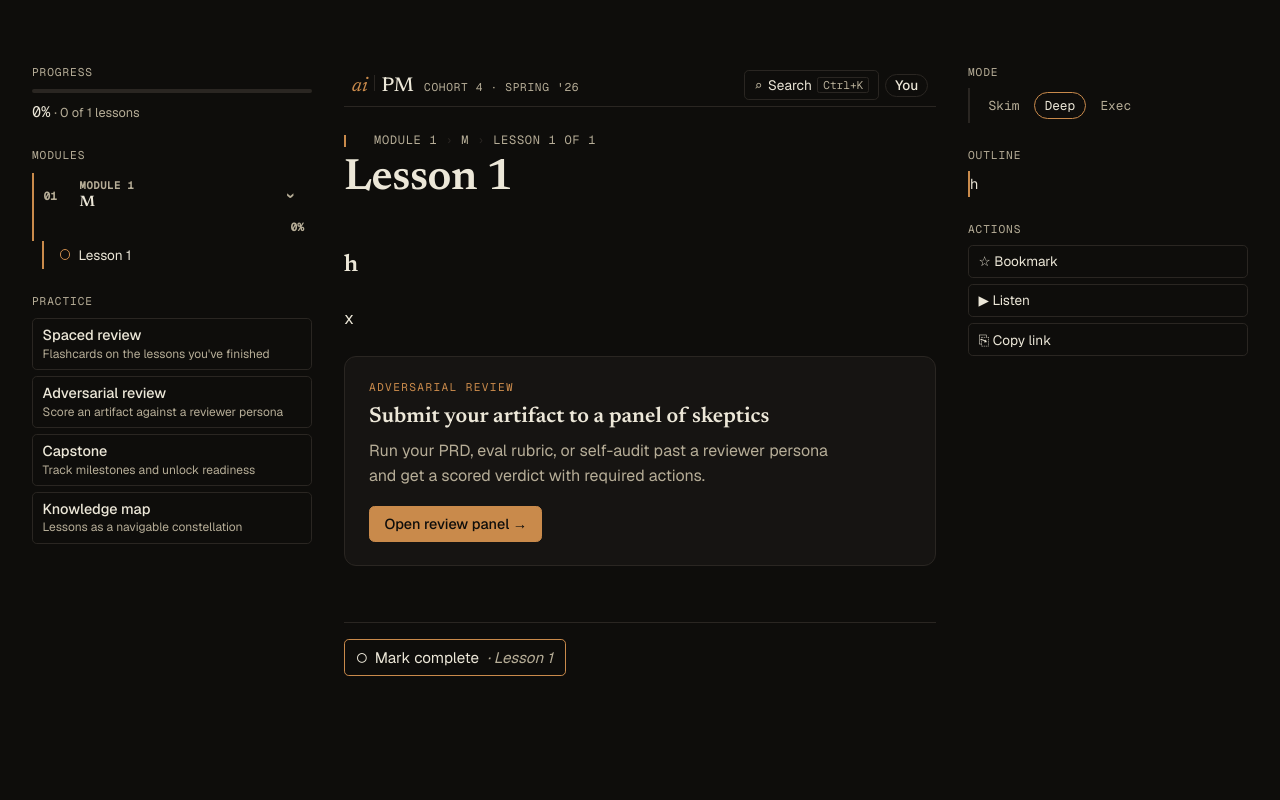
Test case: FR-016 — practice modal stack invariants › opens exactly one modal when a tool is clicked, none before
Click the button with test id "course-practice-item" that starts with "Spaced review" at (172, 344), box 32,318 -> 312,370
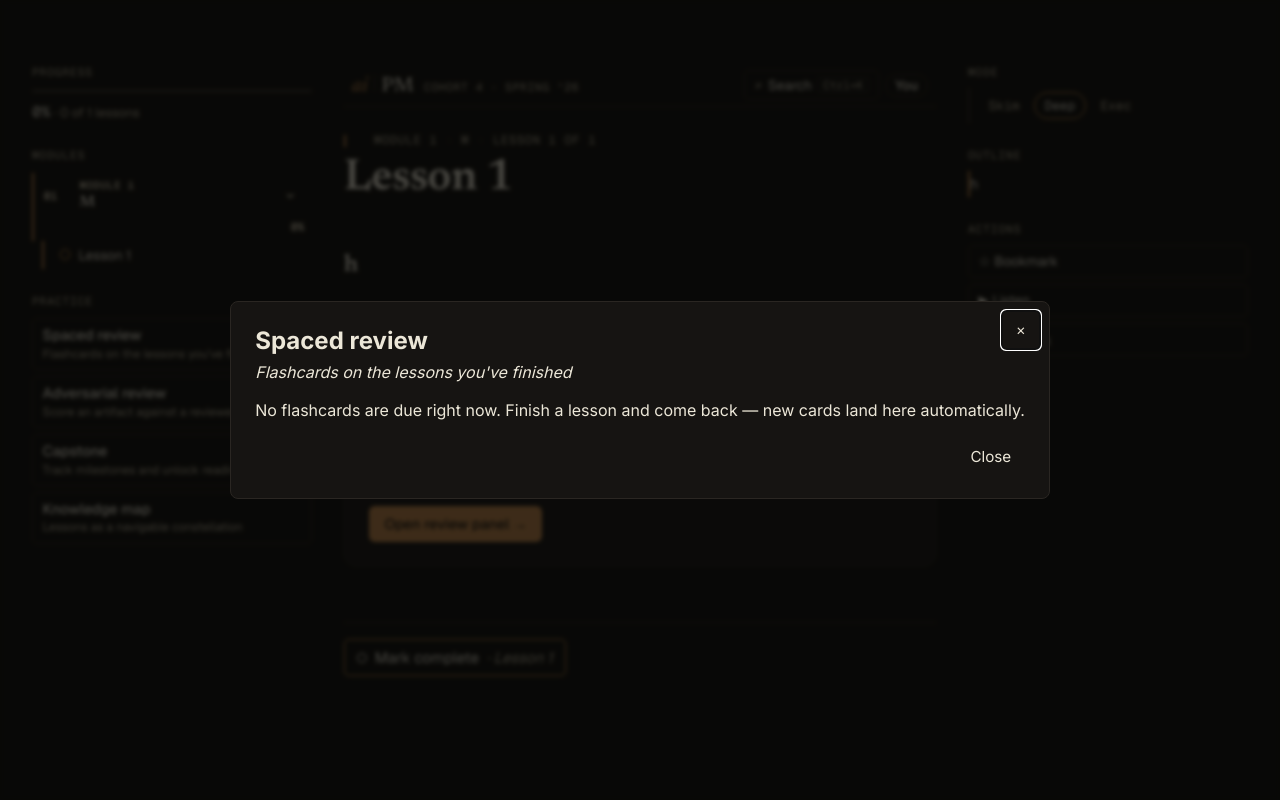
Expected: the number of dialogs is 1, 230,301 -> 1050,499
